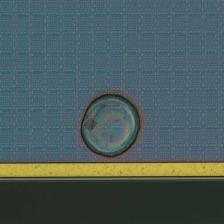COATING BAD: (78, 93, 146, 161)
